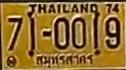0: (54, 17, 69, 50), (72, 16, 86, 49)
1: (28, 16, 36, 50), (93, 17, 98, 49)
7: (7, 17, 22, 50)
9: (105, 16, 121, 49)
SKN: (33, 53, 97, 66)
